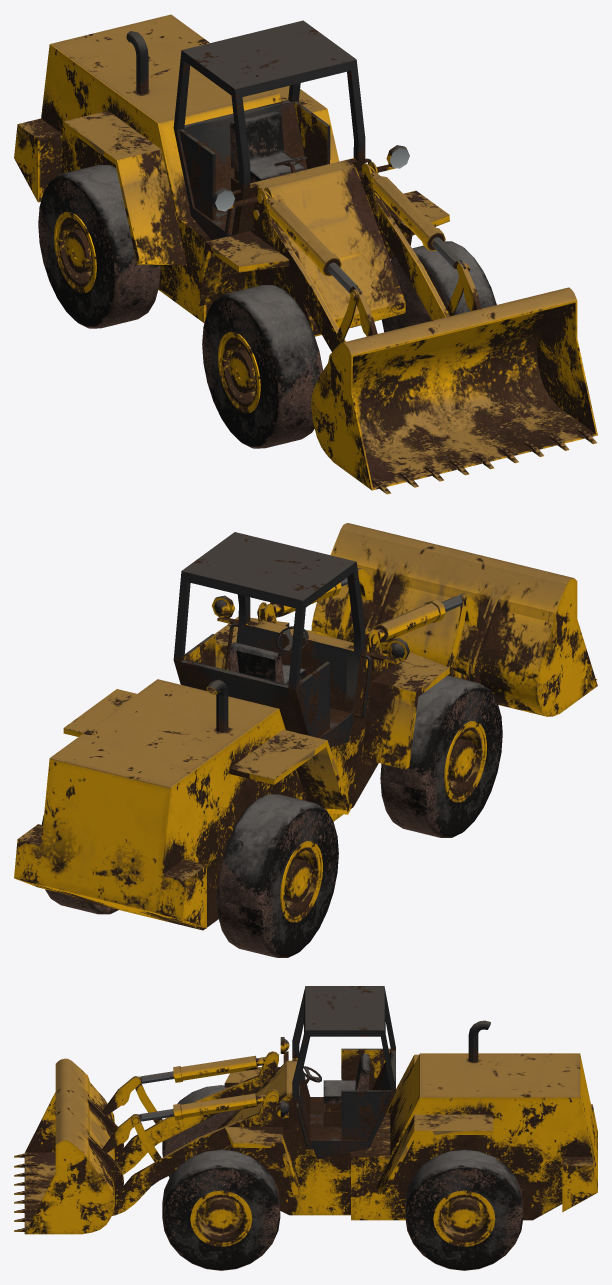
File: hutongFrontloader.fbx
The picture shows the model from 3 angles, top to bottom: view 1: azimuth 30°, elevation 25°; view 2: azimuth 150°, elevation 25°; view 3: azimuth 270°, elevation 25°; orthographic projection. The views are drawn at different scales.
Parts seen in each view (by area): view 1: front_loader; view 2: front_loader; view 3: front_loader.
Part boxes in pixels (left/top/right/bottom): front_loader: left=14, top=14, right=597, bottom=494; front_loader: left=14, top=523, right=597, bottom=957; front_loader: left=14, top=986, right=597, bottom=1270.
Size of the model in its own units: 247 by 313 by 741.
